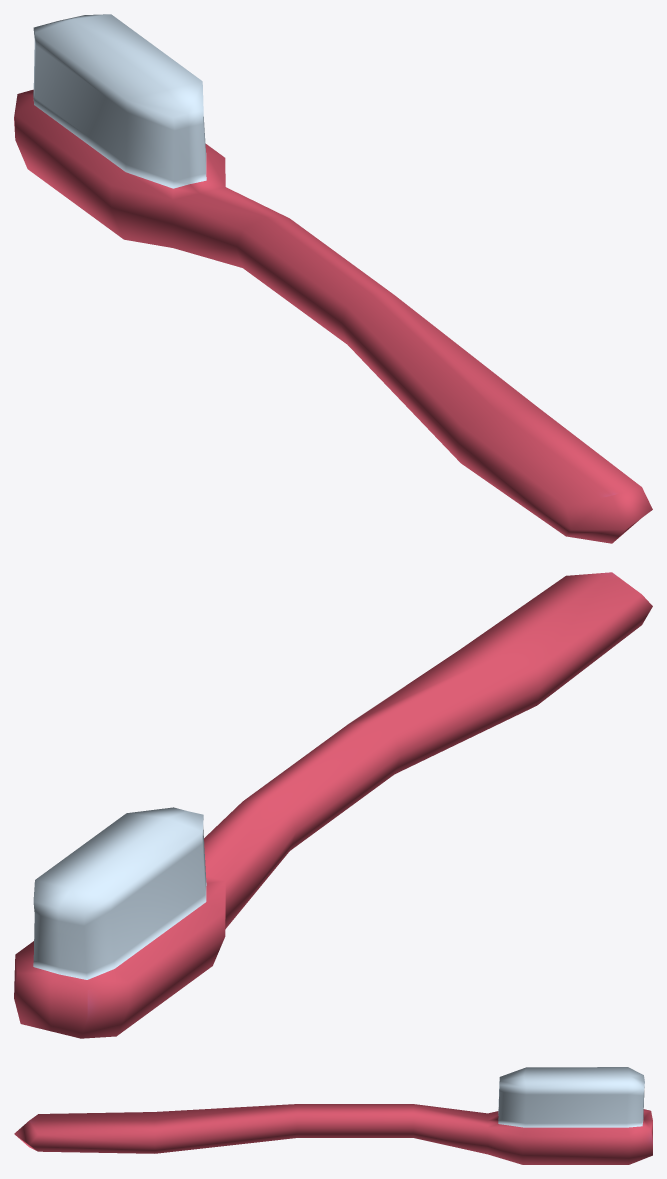
Rendered from toothbrush_bathroom_v1.fbx.
3 renders of one model, top to bottom at view 1: azimuth 30°, elevation 25°; view 2: azimuth 150°, elevation 25°; view 3: azimuth 270°, elevation 25°, orthographic. The views are drawn at different scales.
Parts seen in each view (by area): view 1: Cube; view 2: Cube; view 3: Cube.
Part boxes in pixels (x1,y1,x2,y2): Cube: [14, 14, 652, 543]; Cube: [14, 572, 652, 1038]; Cube: [14, 1067, 652, 1164].
Size of the model in its own units: 5.13 by 5.94 by 44.95.
